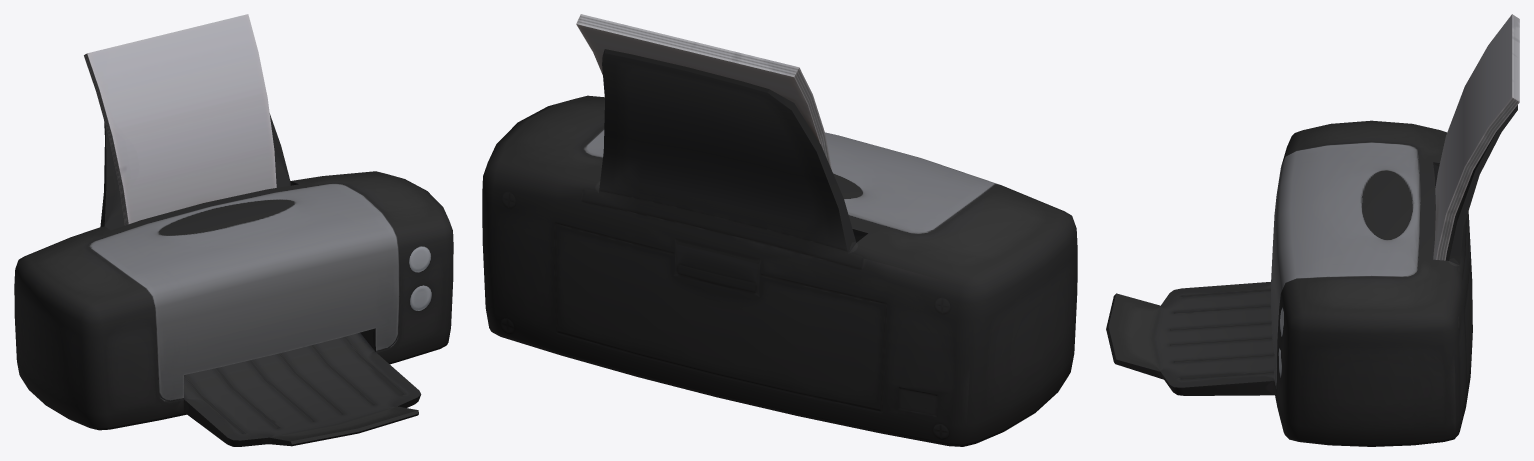
The model's file is OfficePrinter01.FBX.
3 renders of one model, left to right at view 1: azimuth 30°, elevation 25°; view 2: azimuth 150°, elevation 25°; view 3: azimuth 270°, elevation 25°, orthographic. The views are drawn at different scales.
Parts seen in each view (by area): view 1: OfficePrinter01; view 2: OfficePrinter01; view 3: OfficePrinter01.
Boxes of the visible parts, box(x1,y1,x2,y2) form: OfficePrinter01: box(14, 14, 453, 446); OfficePrinter01: box(482, 14, 1077, 446); OfficePrinter01: box(1106, 14, 1519, 446).
Size of what is drawn, in the model's own units: 0.8075 by 0.5475 by 0.6962.
